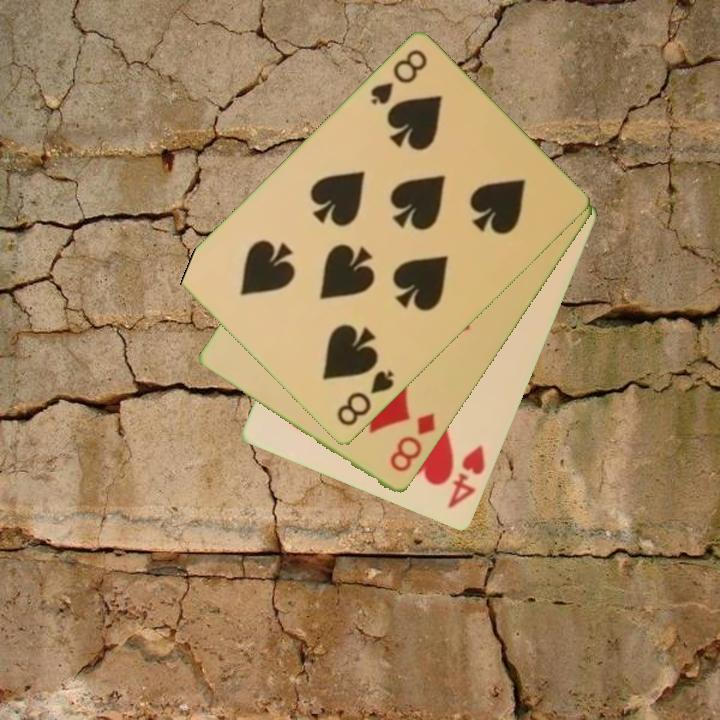4h: (445, 442, 488, 513)
8d: (386, 409, 439, 476)
8s: (366, 46, 431, 109), (333, 367, 397, 430)
